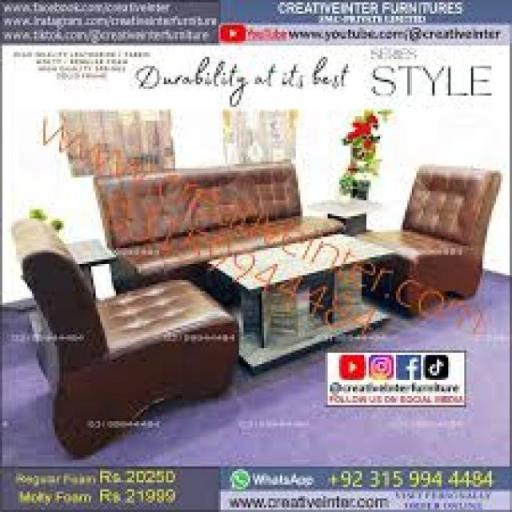sofa: (18, 146, 508, 434)
